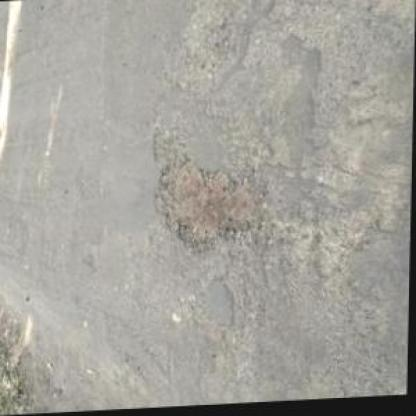pothole: (148, 119, 265, 257)
